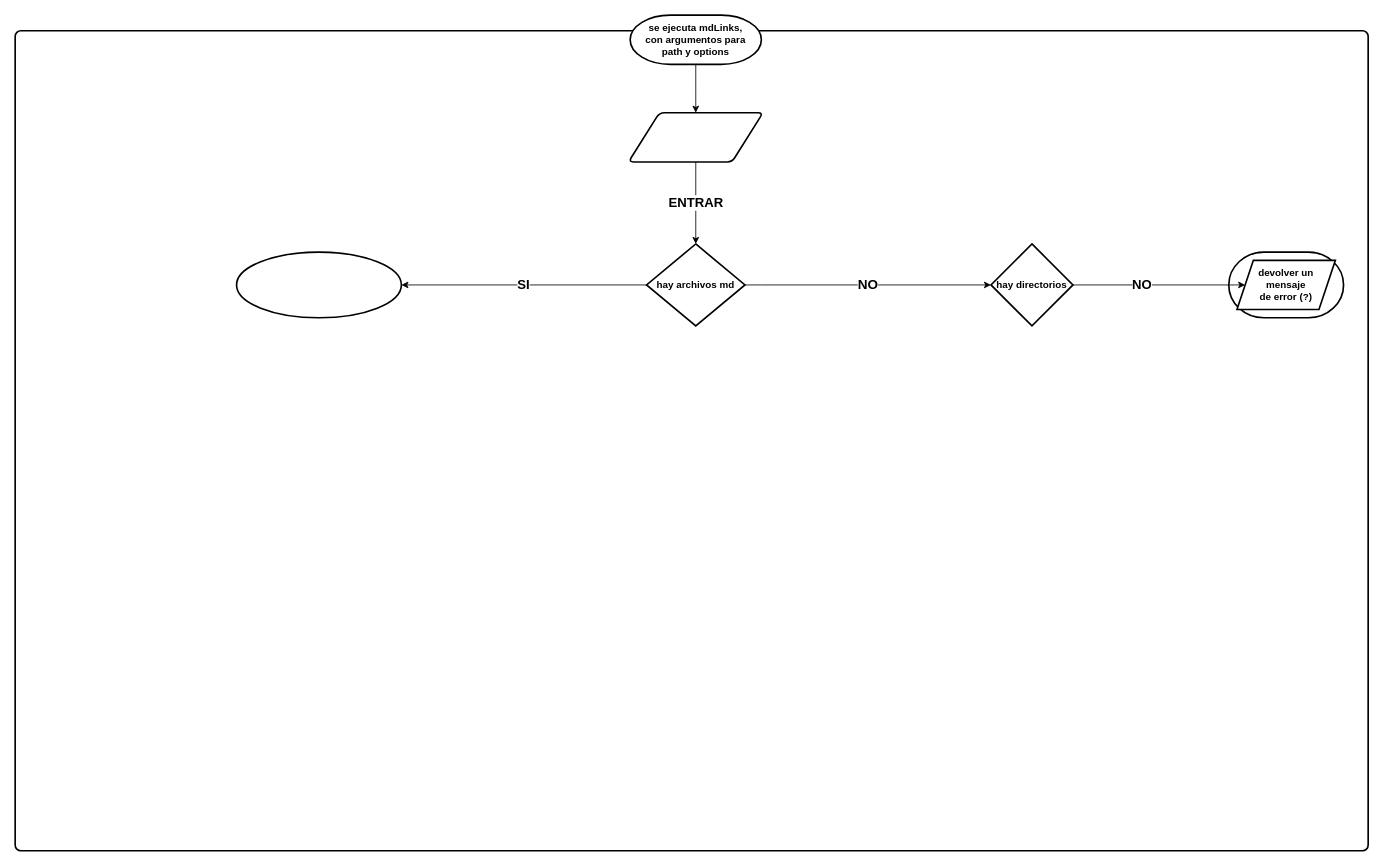
This 1383x865 diagram has some shape labels left out. The shapes that lost their labels are listed below. From the top down, each one's centre as x and y in pixels, then its label:
At (695,137): "ruta donde están los archivos md".
At (318,284): "entrar a los archivos y leerlos".
